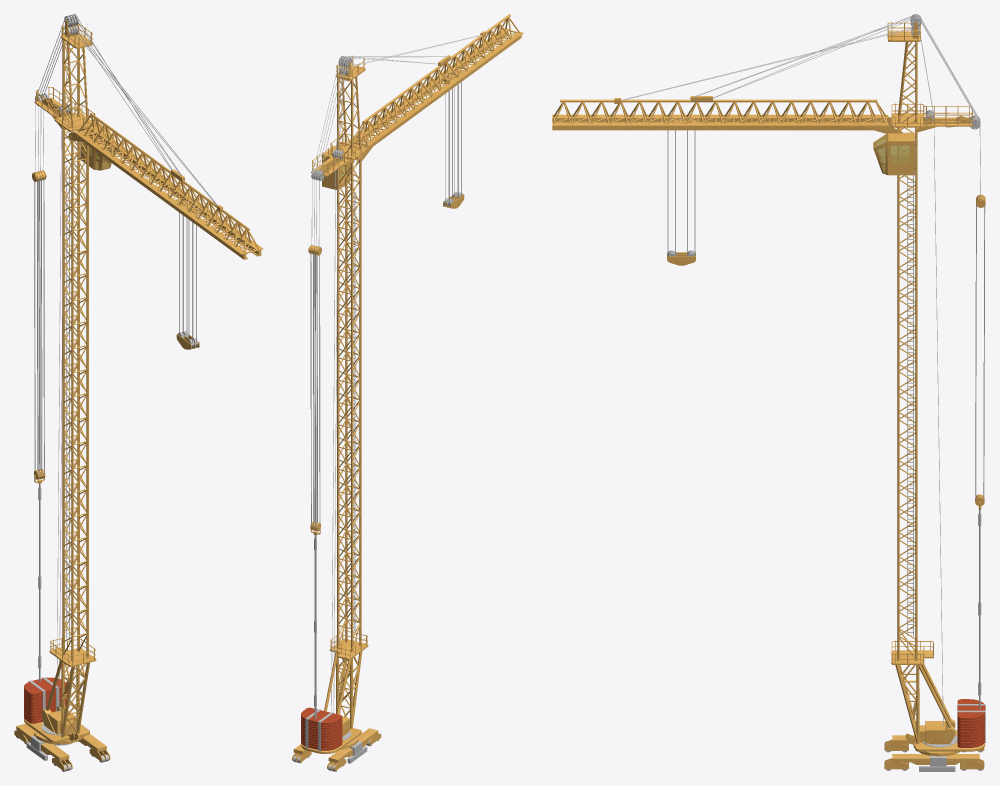
Rendered from Crane N230817.obj.
3 views of the same model, side by side, from view 1: azimuth 30°, elevation 25°; view 2: azimuth 150°, elevation 25°; view 3: azimuth 270°, elevation 25° (orthographic). The views are drawn at different scales.
Parts seen in each view (by area): view 1: Box04; view 2: Box04; view 3: Box04.
Part boxes in pixels (left/top/right/bottom): Box04: left=14, top=14, right=263, bottom=771; Box04: left=292, top=14, right=523, bottom=771; Box04: left=552, top=14, right=985, bottom=771.
Size of the model in its own units: 3665 by 50914 by 26894.
